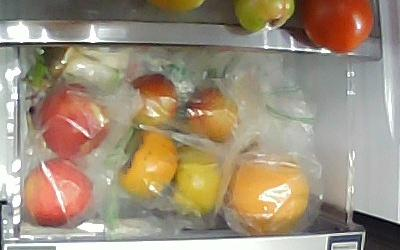apple_vinyl: (39, 83, 111, 159), (22, 157, 92, 228)
grapefruit_vinyl: (232, 158, 309, 238)
persimmon_vinyl: (118, 127, 181, 202), (174, 141, 220, 212)
prune_vinyl: (182, 84, 235, 143), (128, 72, 177, 128)
